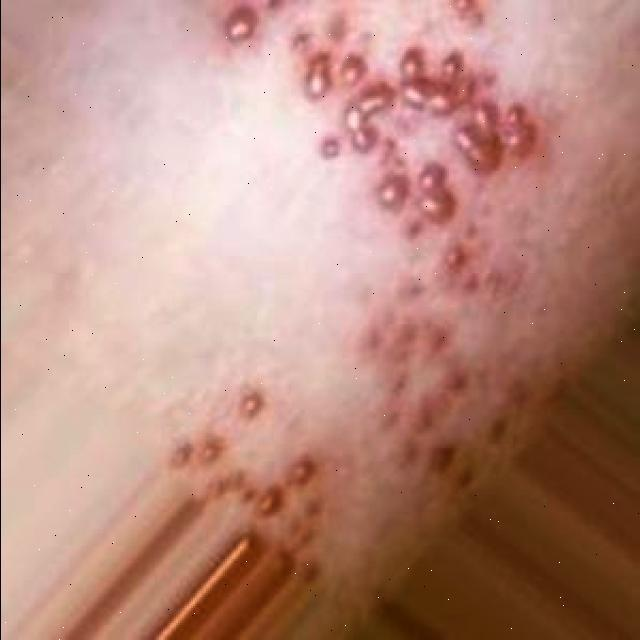Shingles: (229, 0, 543, 520), (155, 384, 320, 550)
